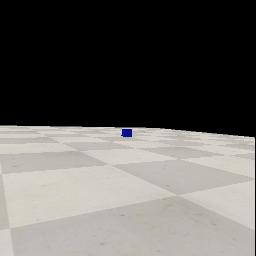box: (121, 129, 132, 137)
